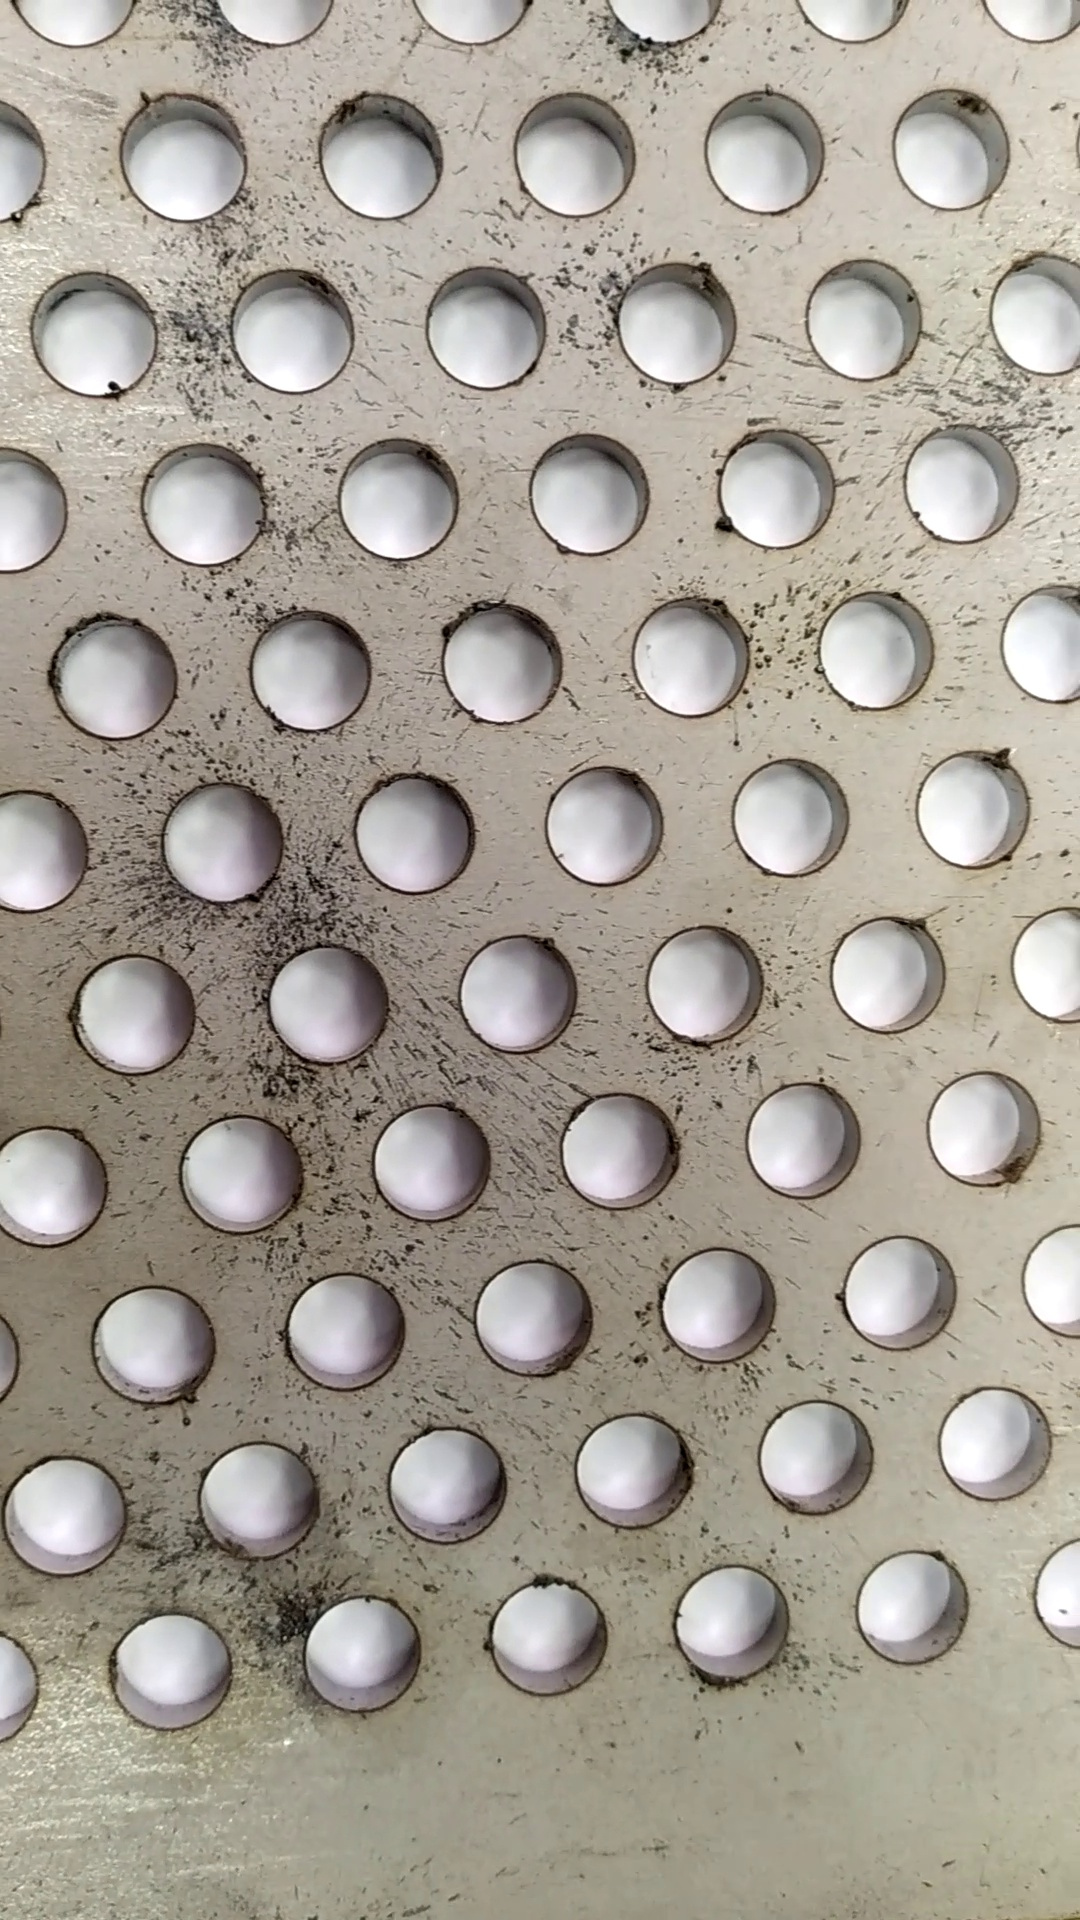Hole: (524, 752, 696, 903), (302, 76, 459, 233), (36, 597, 187, 750), (320, 429, 479, 574), (51, 944, 214, 1083), (18, 268, 183, 404), (336, 764, 487, 911), (284, 1586, 440, 1726), (489, 80, 645, 220), (603, 256, 769, 386), (462, 1251, 615, 1393), (429, 593, 589, 727), (443, 920, 592, 1064), (80, 1275, 229, 1418), (512, 422, 659, 564), (225, 599, 377, 736), (124, 433, 276, 568), (112, 84, 257, 225), (898, 735, 1043, 876), (688, 75, 828, 220), (873, 79, 1015, 220), (104, 1600, 247, 1741), (564, 1404, 708, 1544), (247, 932, 394, 1068), (735, 1068, 876, 1209), (891, 417, 1033, 556), (663, 1553, 804, 1693), (475, 1571, 630, 1697), (216, 262, 363, 397), (738, 1389, 881, 1526), (171, 1102, 313, 1240), (357, 1093, 498, 1230), (276, 1262, 418, 1396), (415, 262, 559, 396), (373, 1419, 520, 1548), (820, 901, 955, 1040), (620, 587, 753, 728), (708, 415, 840, 558), (649, 1242, 791, 1373), (185, 1433, 328, 1563), (841, 1542, 985, 1671), (555, 1089, 696, 1220), (918, 1064, 1051, 1197), (156, 771, 287, 905), (723, 746, 853, 880), (798, 255, 928, 386), (634, 916, 769, 1044), (808, 587, 942, 715), (833, 1226, 967, 1354), (1, 1452, 140, 1573), (932, 1377, 1062, 1503)
